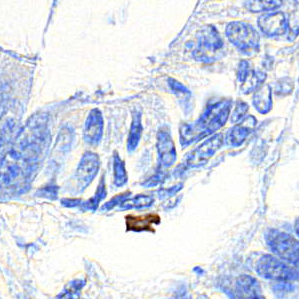Lymphocyte: (122, 210, 161, 235)
